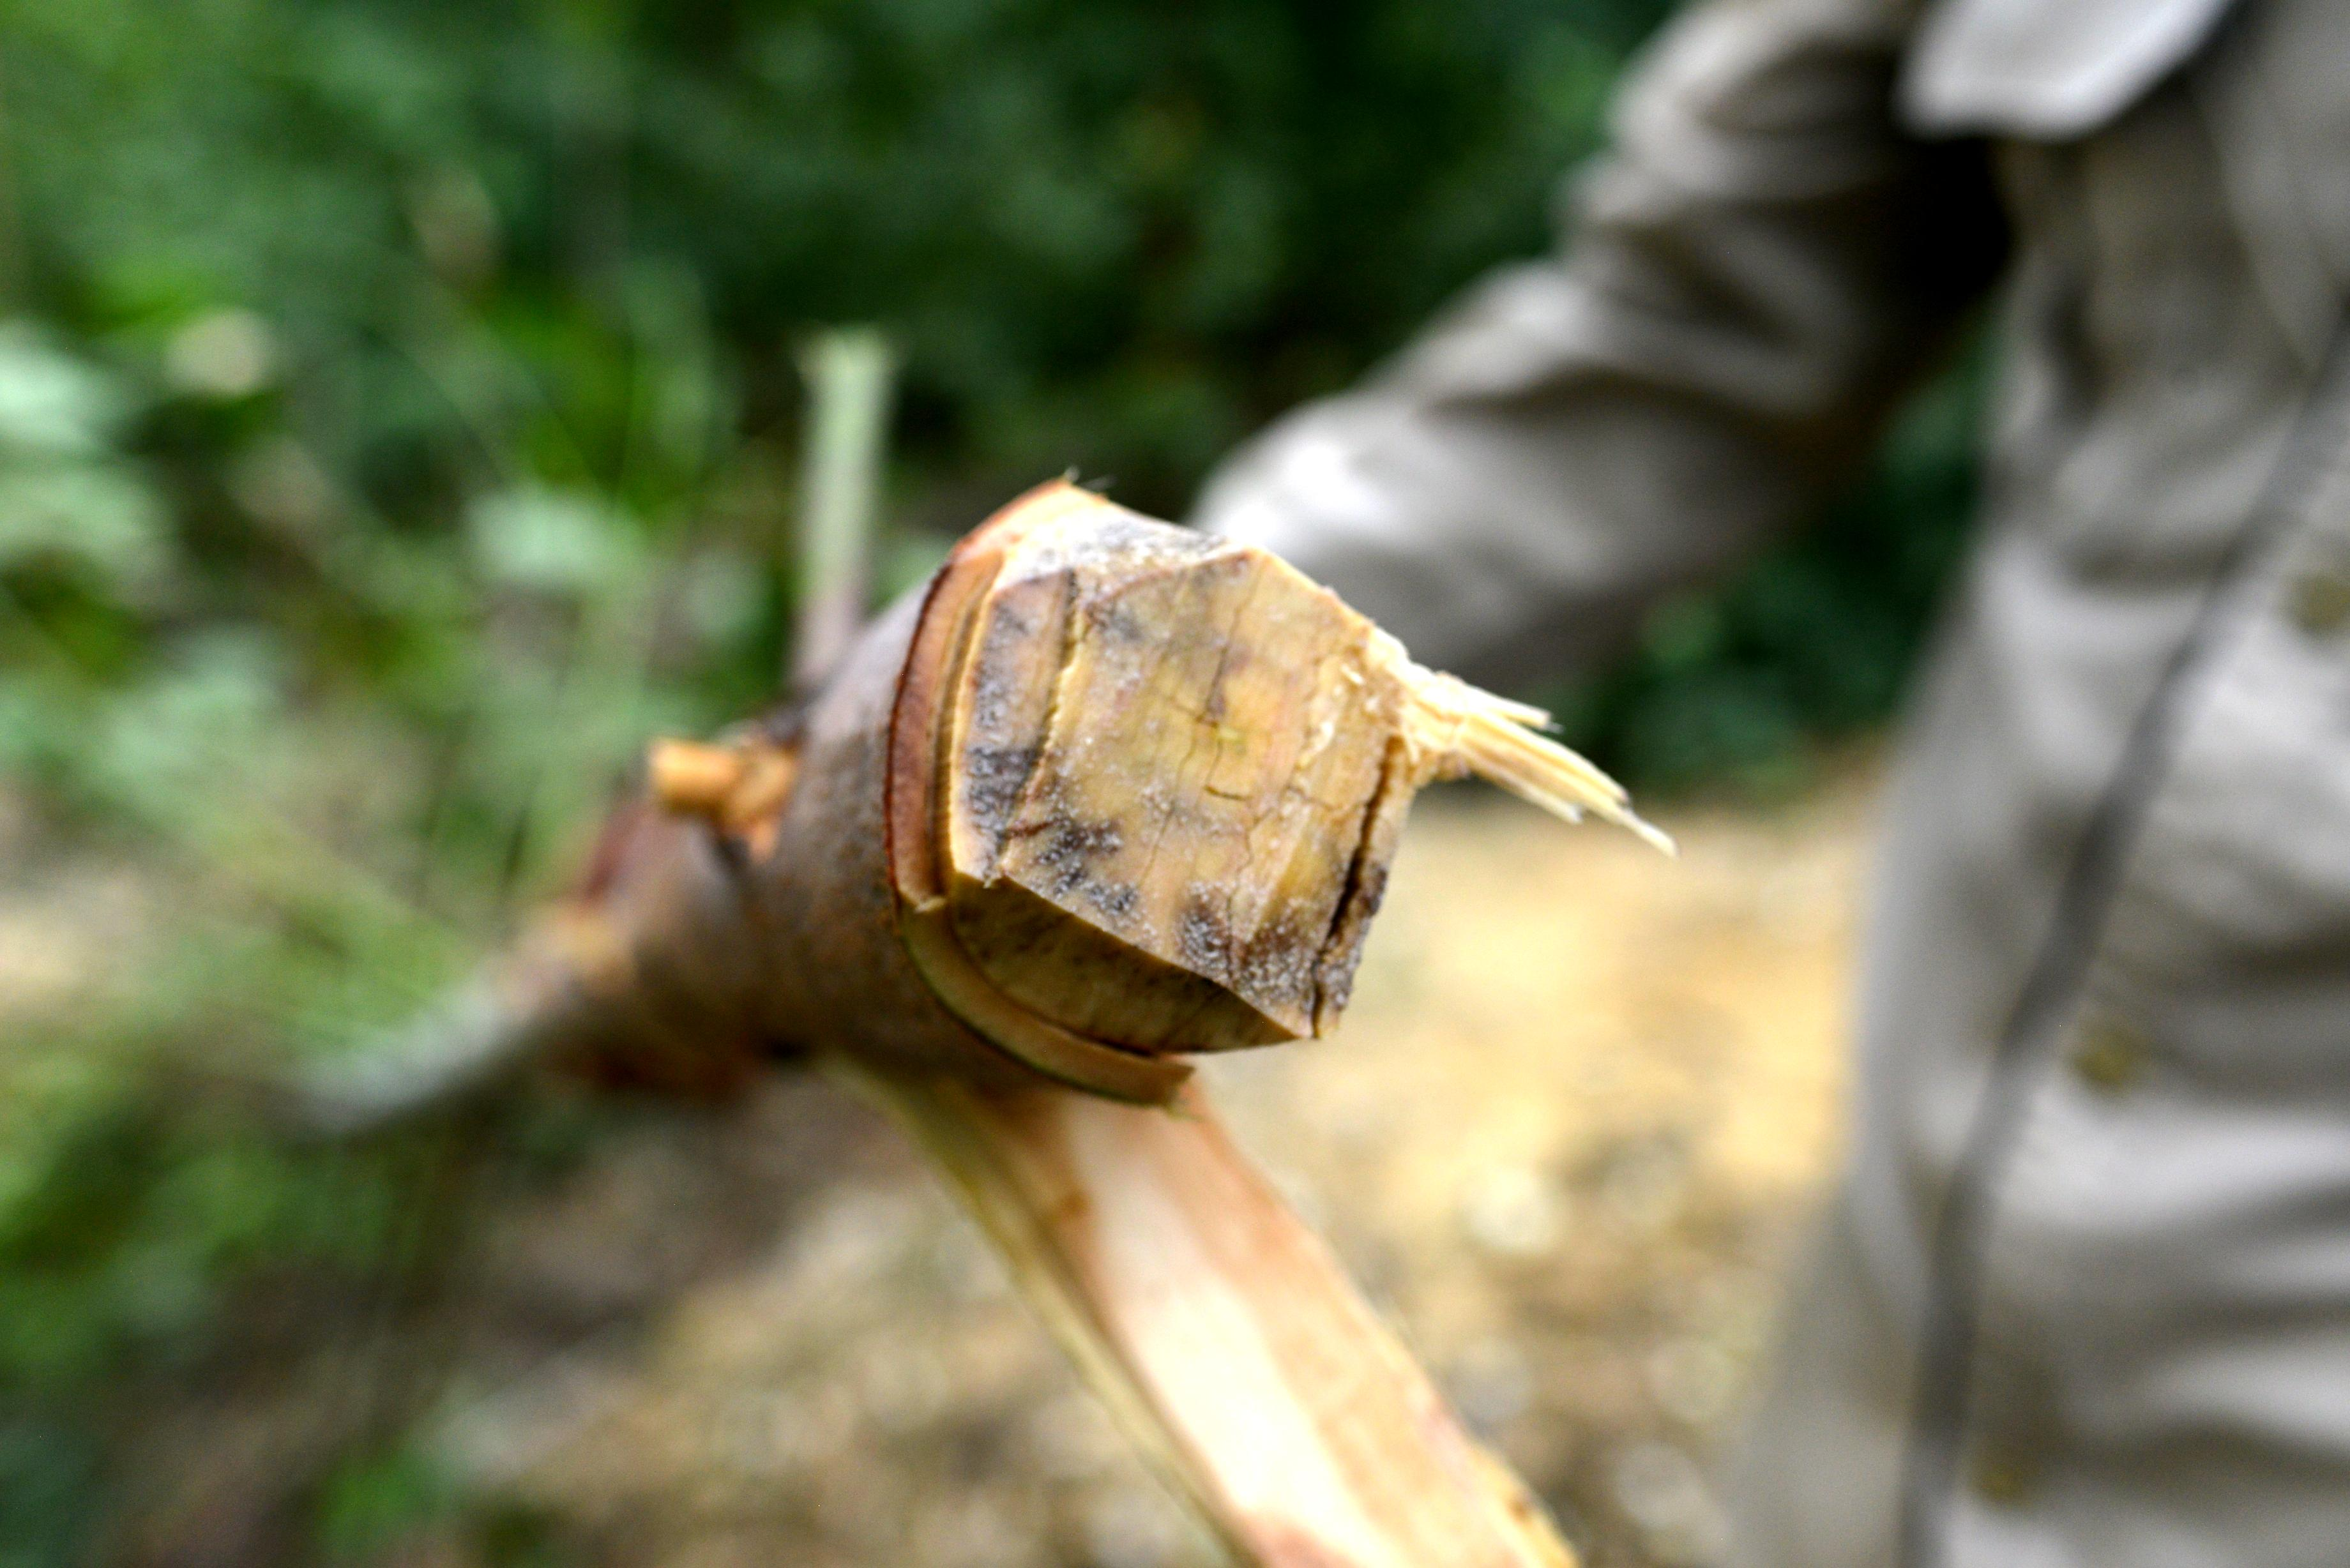Ralstonia: (929, 661, 1151, 945), (987, 471, 1246, 639), (1165, 836, 1358, 1010)
